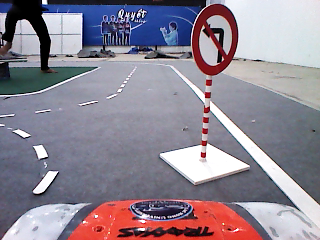ban: (191, 3, 238, 76)
